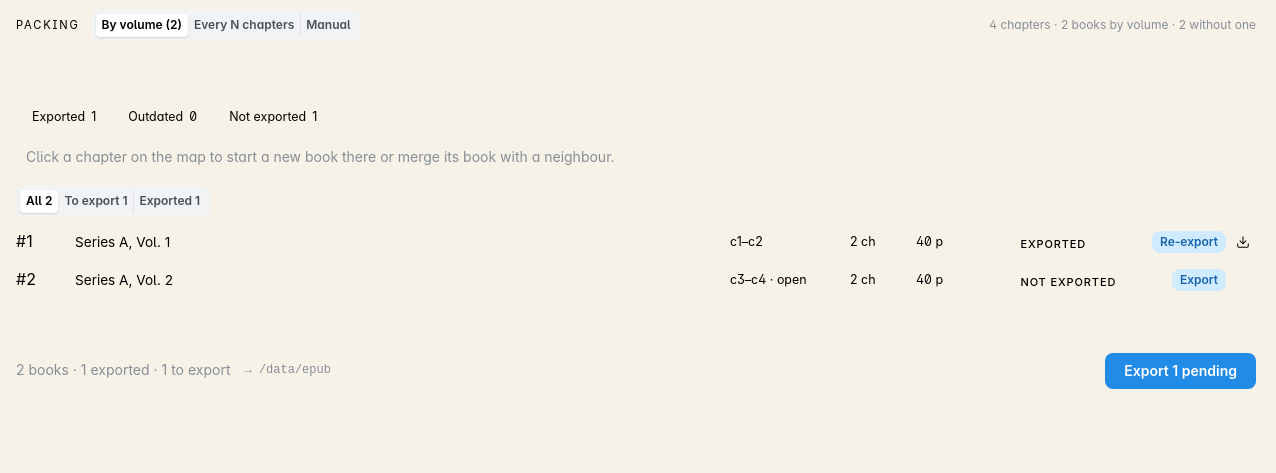
it: EpubPacker › shows a save error from the server
The width and height of the screenshot is (1276, 473).
In the field named "Title of book 1": x=397, y=242 [74,226,720,256], type "x"
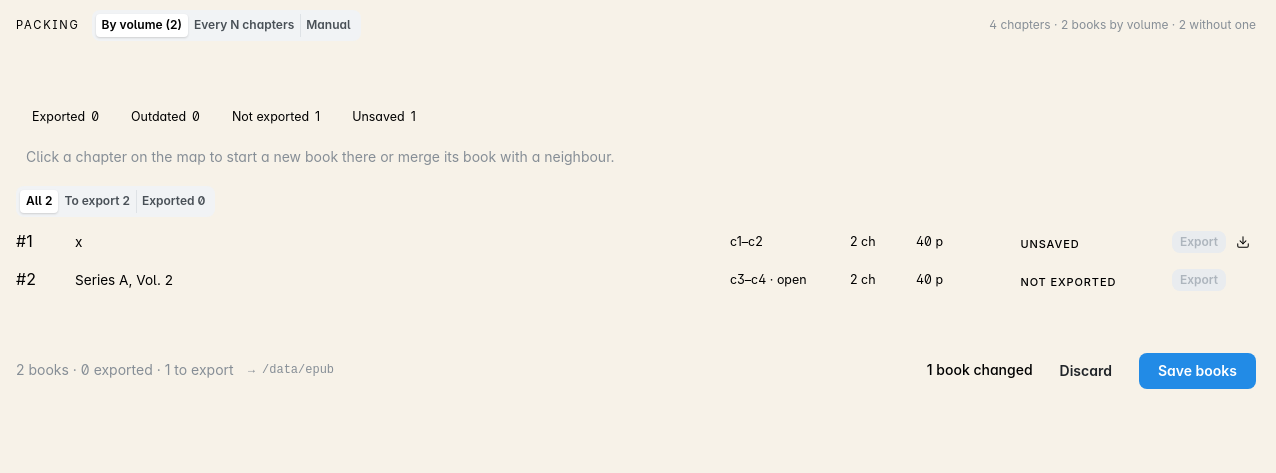
Click the button "Save books": x=1197, y=370 [1139,352,1256,388]
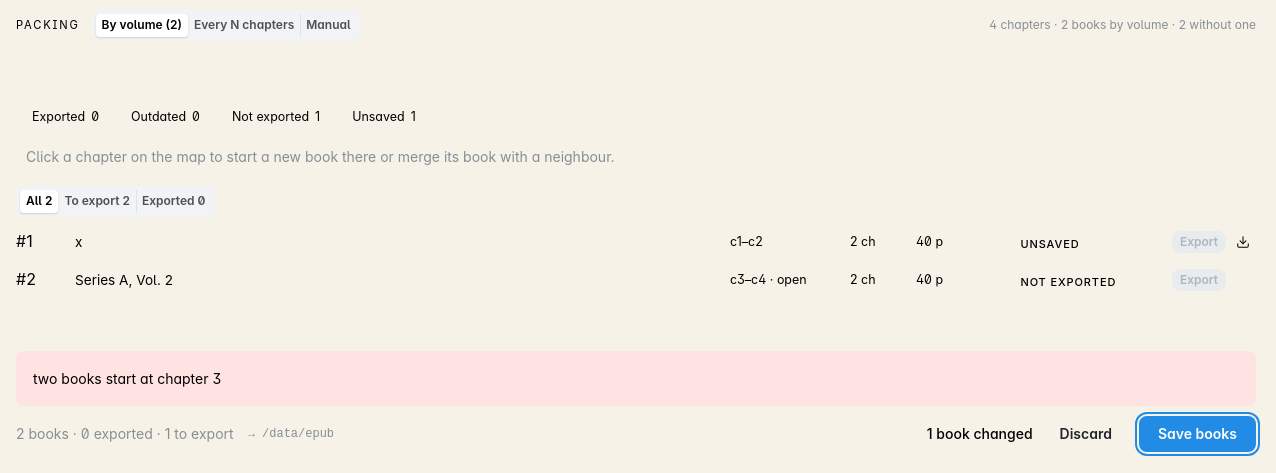
Expected: the text "two books start at chapter 3" is shown, [33,370,221,386]
